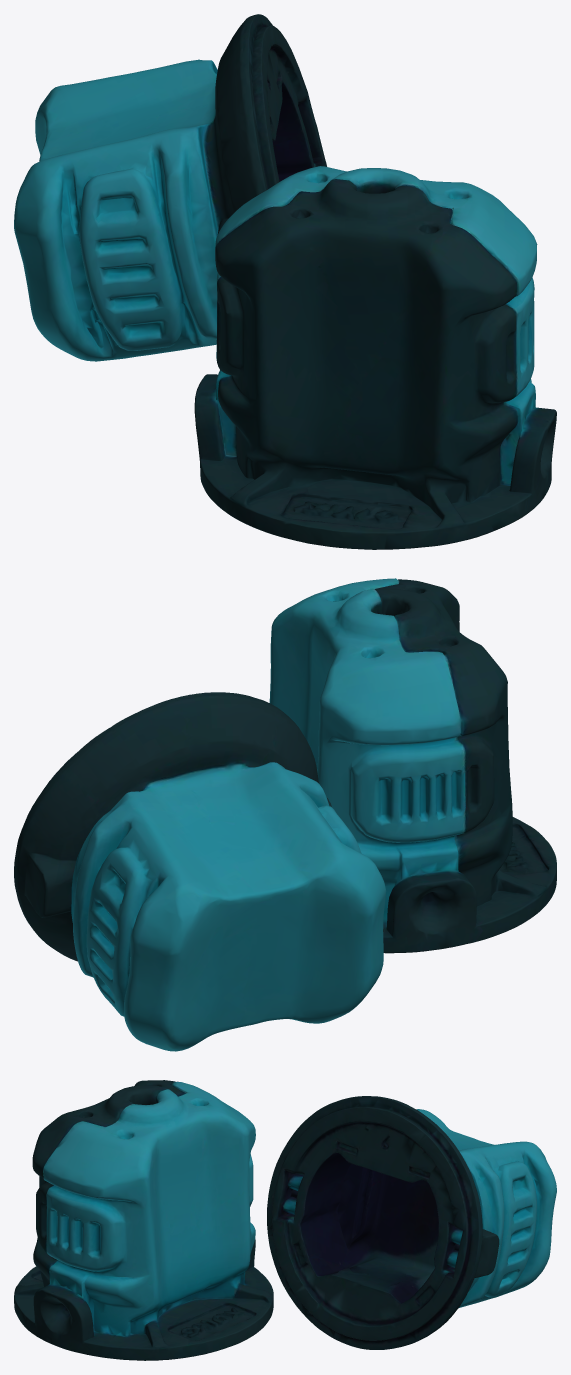
The model's file is spin-level-fast-clip-cap.glb.
The picture shows the model from 3 angles, top to bottom: view 1: azimuth 30°, elevation 25°; view 2: azimuth 150°, elevation 25°; view 3: azimuth 270°, elevation 25°; orthographic projection. The views are drawn at different scales.
Parts seen in each view (by area): view 1: tripo_node_fffa5d27-601b-4101-a91c-6a7ce217aafc; view 2: tripo_node_fffa5d27-601b-4101-a91c-6a7ce217aafc; view 3: tripo_node_fffa5d27-601b-4101-a91c-6a7ce217aafc.
Part boxes in pixels (left/top/right/bottom): tripo_node_fffa5d27-601b-4101-a91c-6a7ce217aafc: left=14, top=14, right=556, bottom=549; tripo_node_fffa5d27-601b-4101-a91c-6a7ce217aafc: left=14, top=578, right=556, bottom=1051; tripo_node_fffa5d27-601b-4101-a91c-6a7ce217aafc: left=14, top=1080, right=556, bottom=1360.
Bounding box in the file's own units: 0.5202 × 0.4596 × 1.
Materials: 1 (1 with a texture image).
